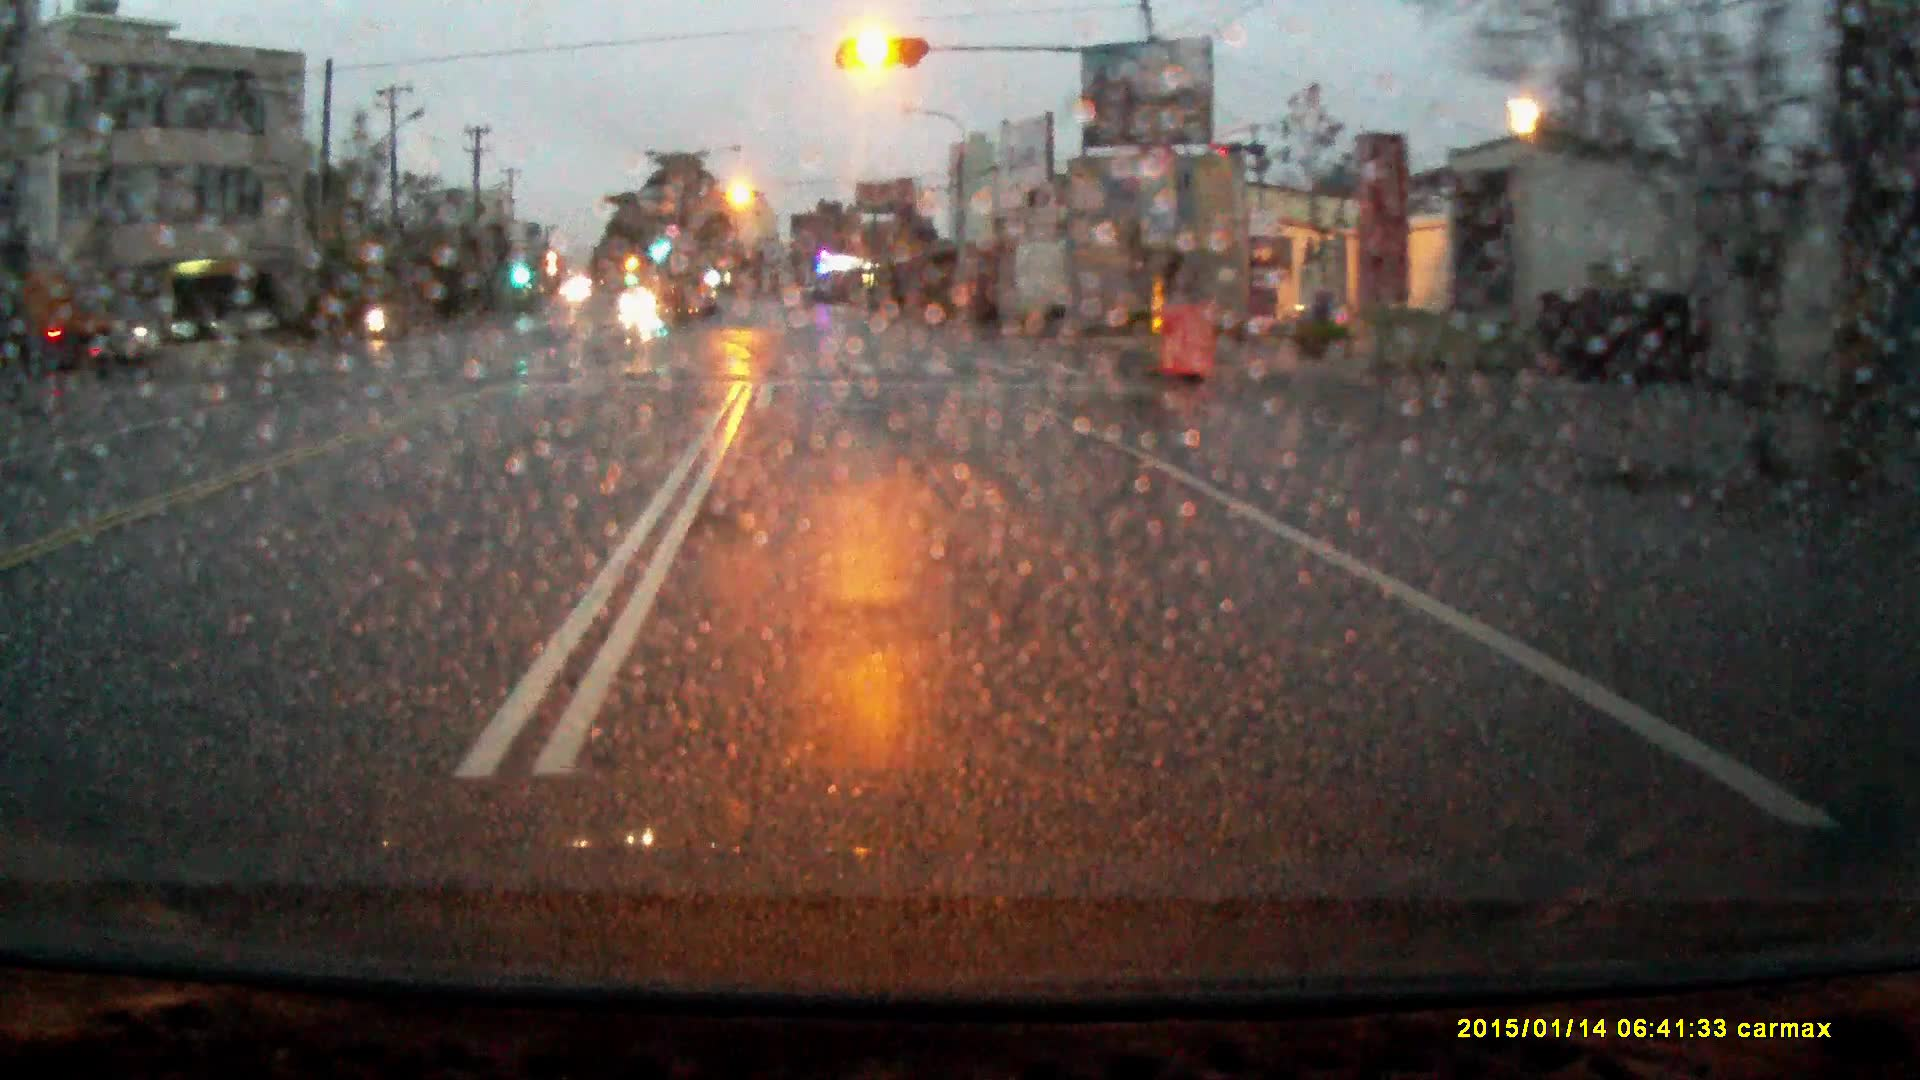rider: (364, 278, 391, 336)
vehicle: (1, 258, 104, 371), (620, 287, 659, 314)
